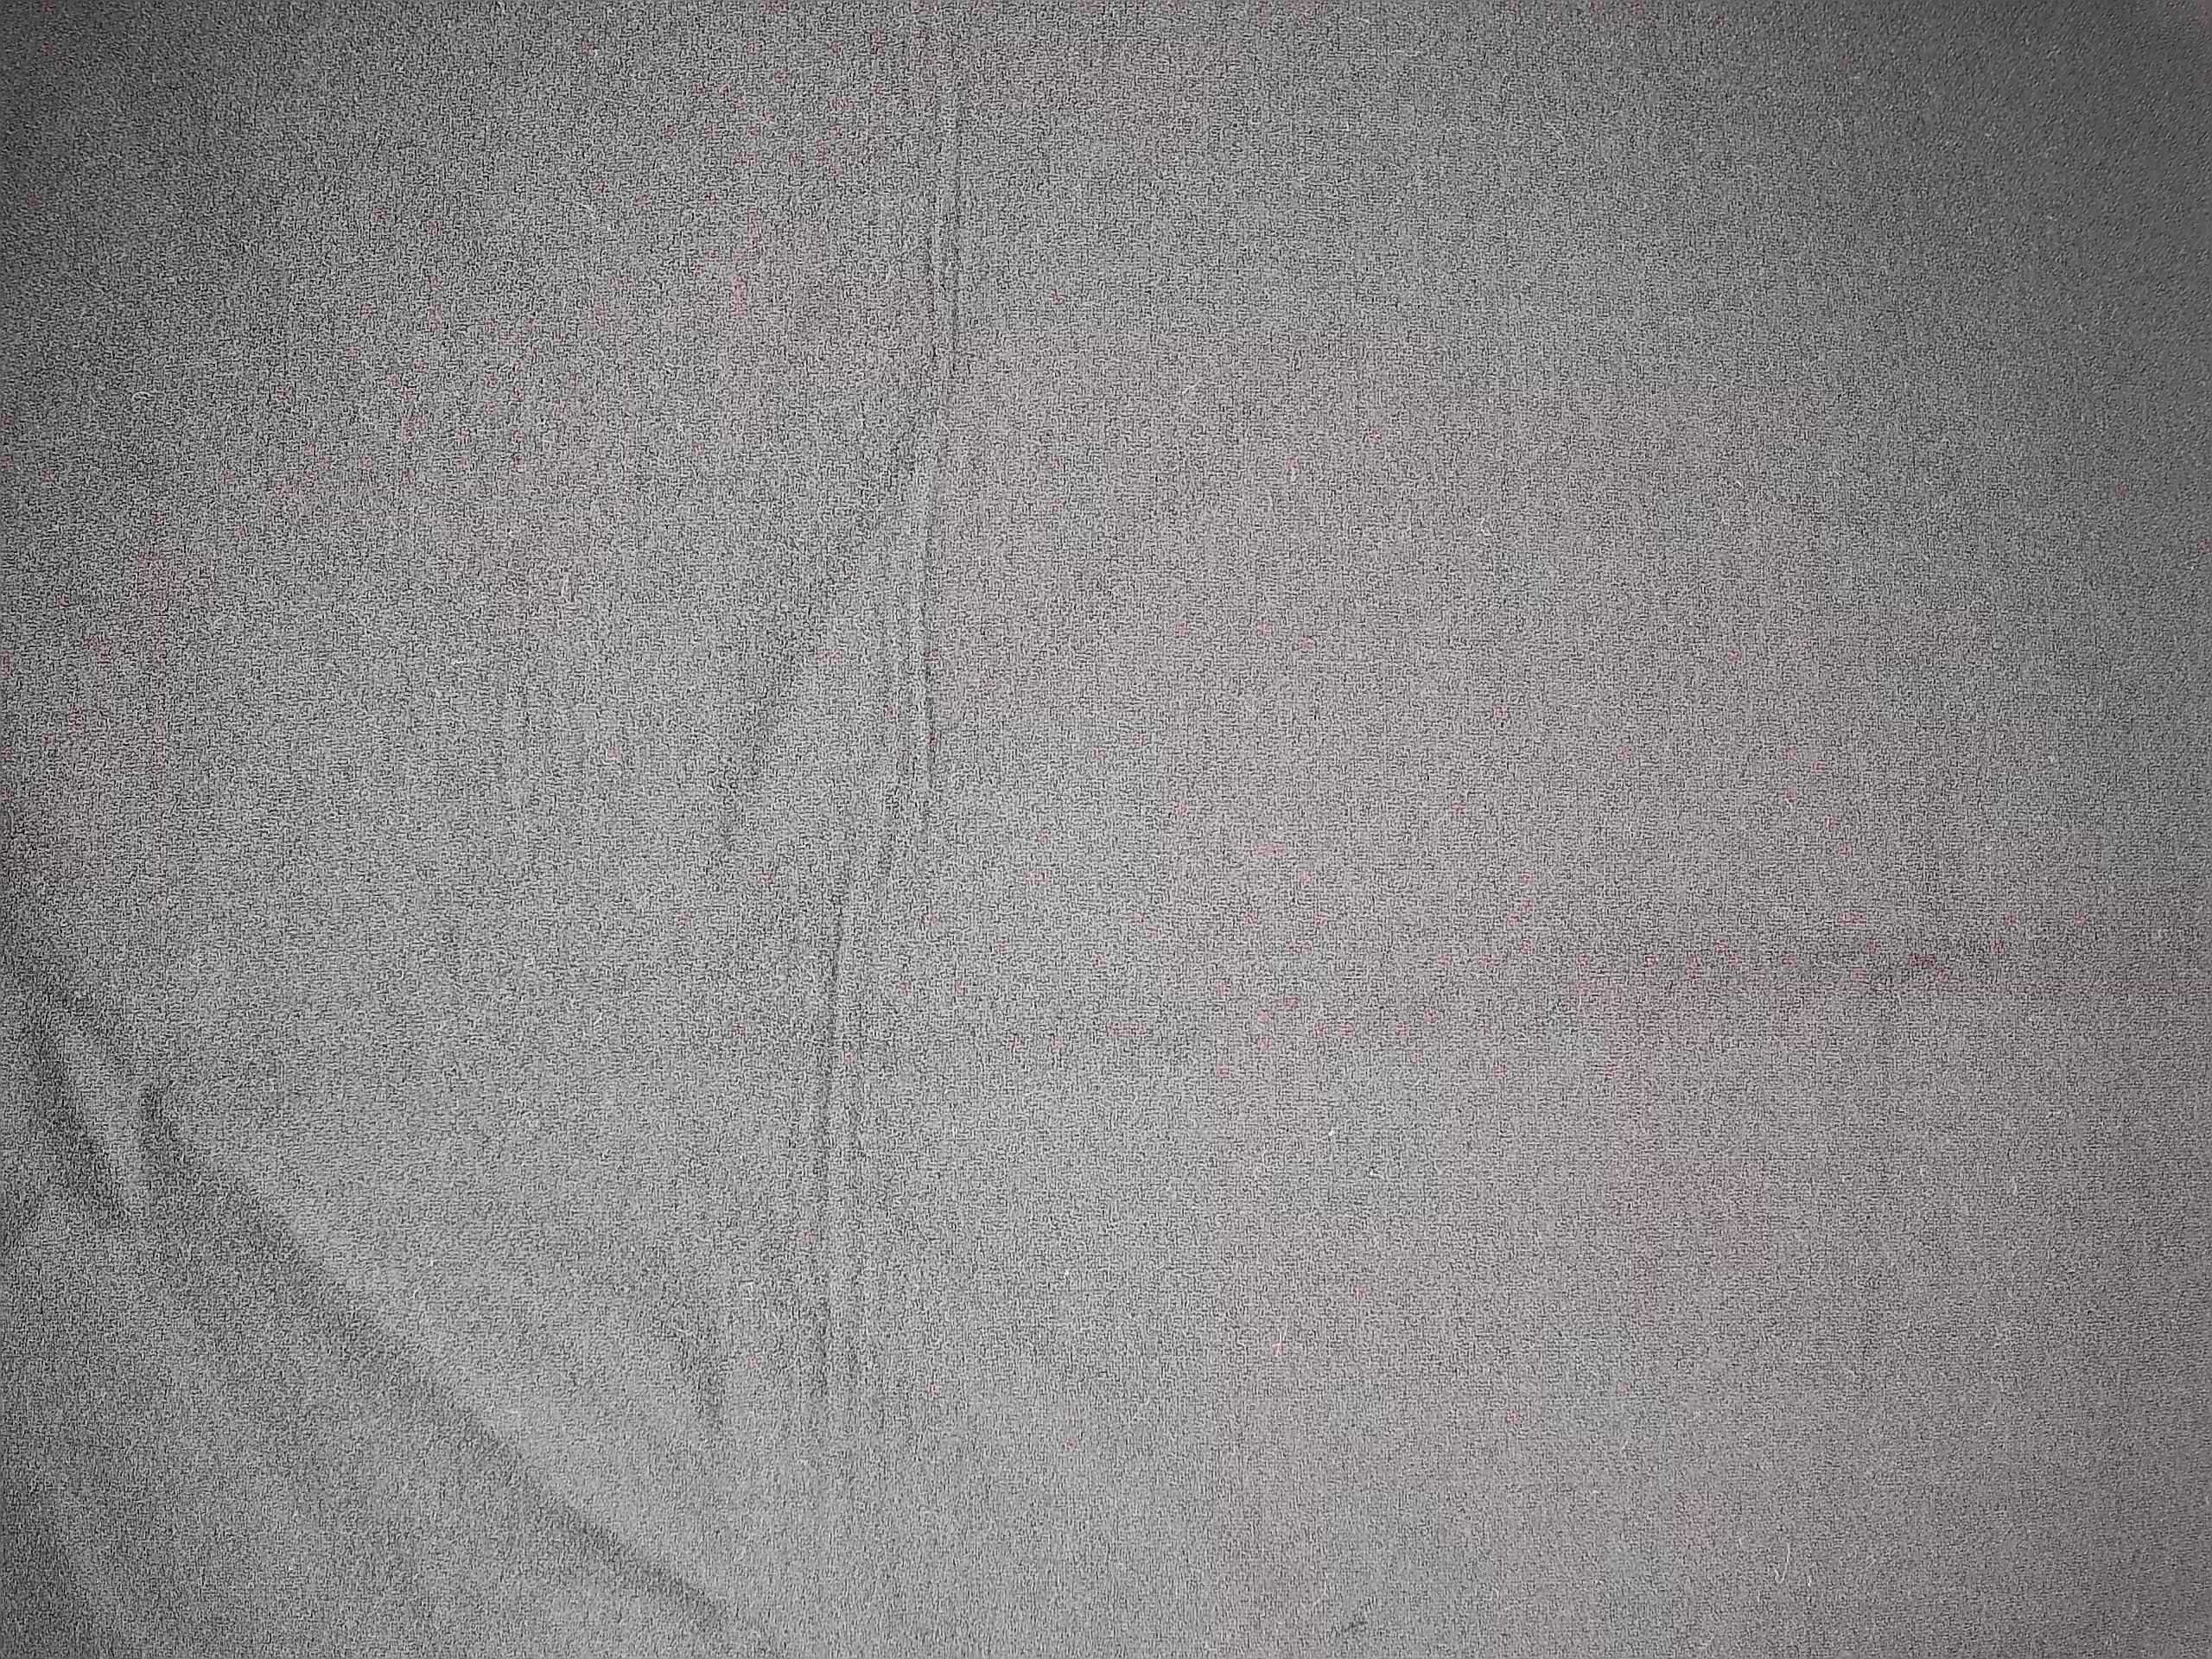others: (859, 30, 981, 775), (796, 861, 921, 1490)
